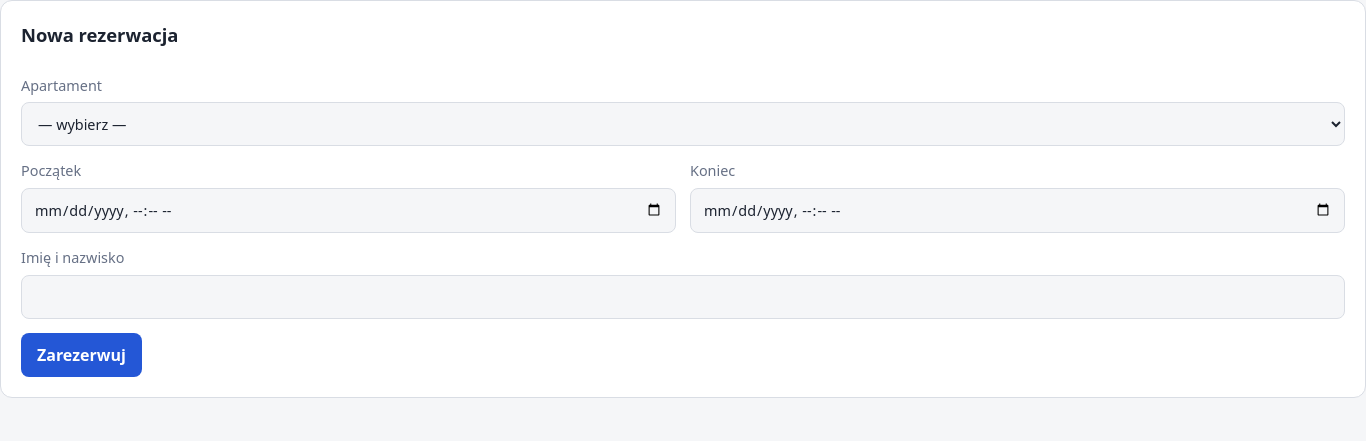
Test: BookingForm › rejects a booking that collides with an existing one
This screenshot has width=1366, height=441.
Select "Apartament 101" in the dropdown labelled "Apartament" at (683, 124), box 21,102 -> 1345,146
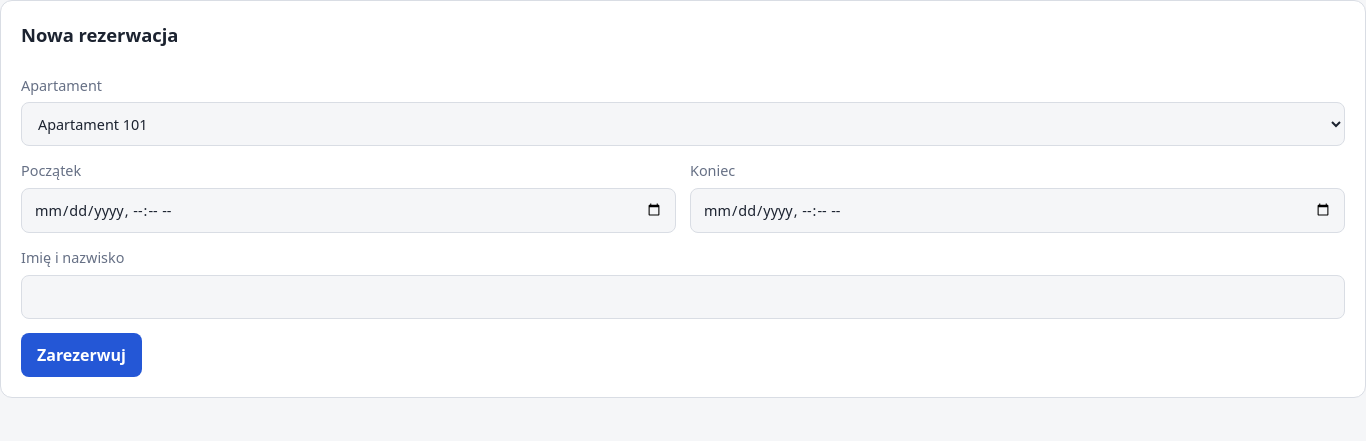
Type "2026-07-03T10:00" into the field labelled "Początek" at (348, 211), box 21,188 -> 676,233
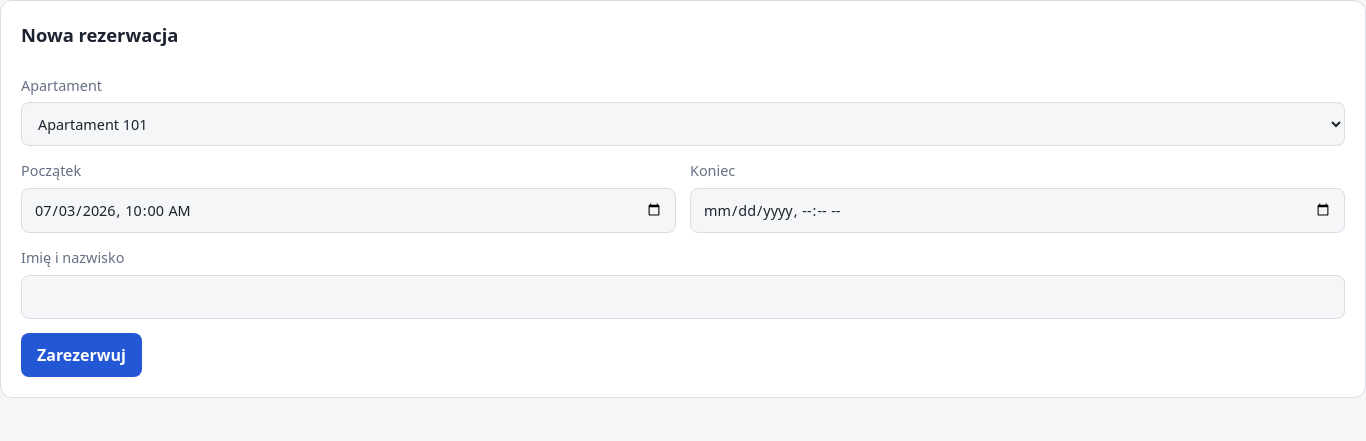
Type "2026-07-06T10:00" into the field labelled "Koniec" at (1018, 211), box 690,188 -> 1345,233
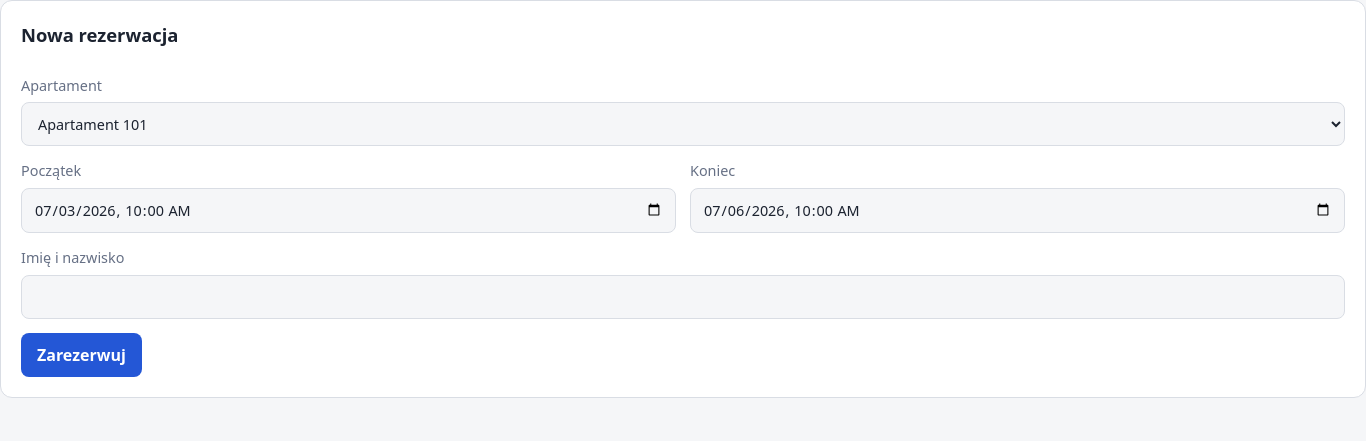
Type "Jan" into the field labelled "Imię i nazwisko" at (683, 297), box 21,275 -> 1345,319
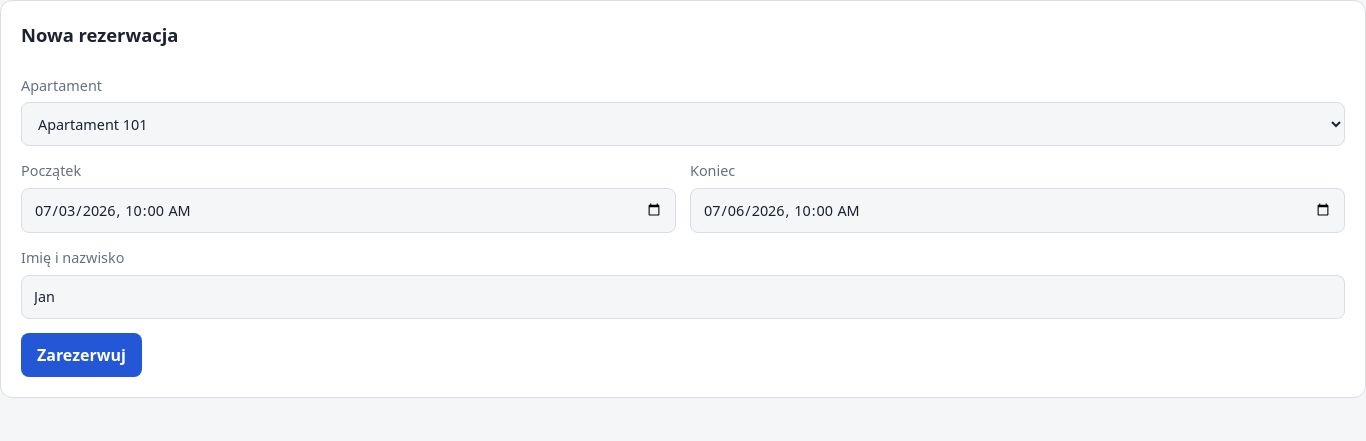
Click the button "Zarezerwuj" at (81, 355), box 21,333 -> 142,377
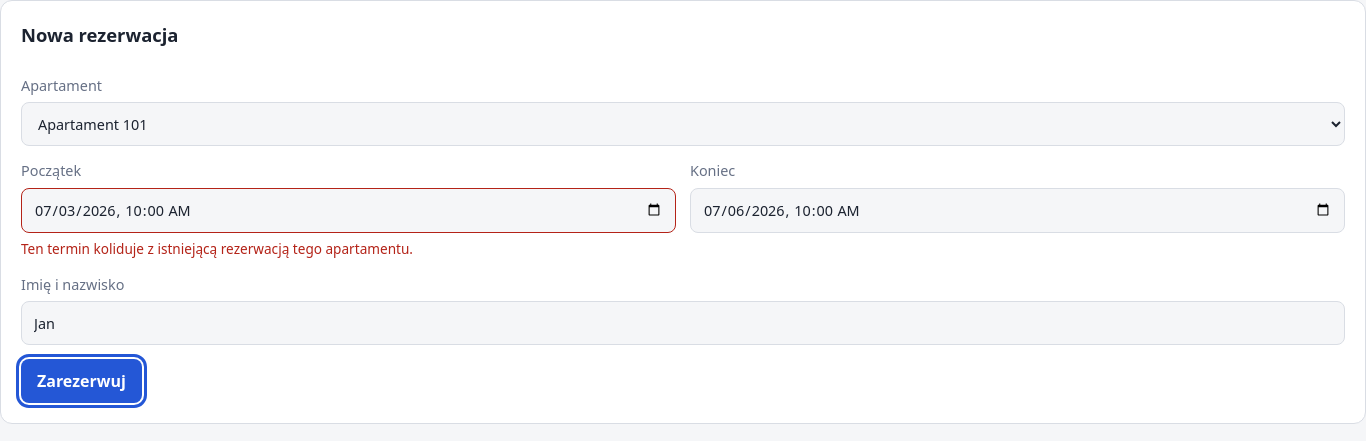
Expected: the text "koliduje z istniejącą rezerwacją" is shown, 21,239 -> 413,258
